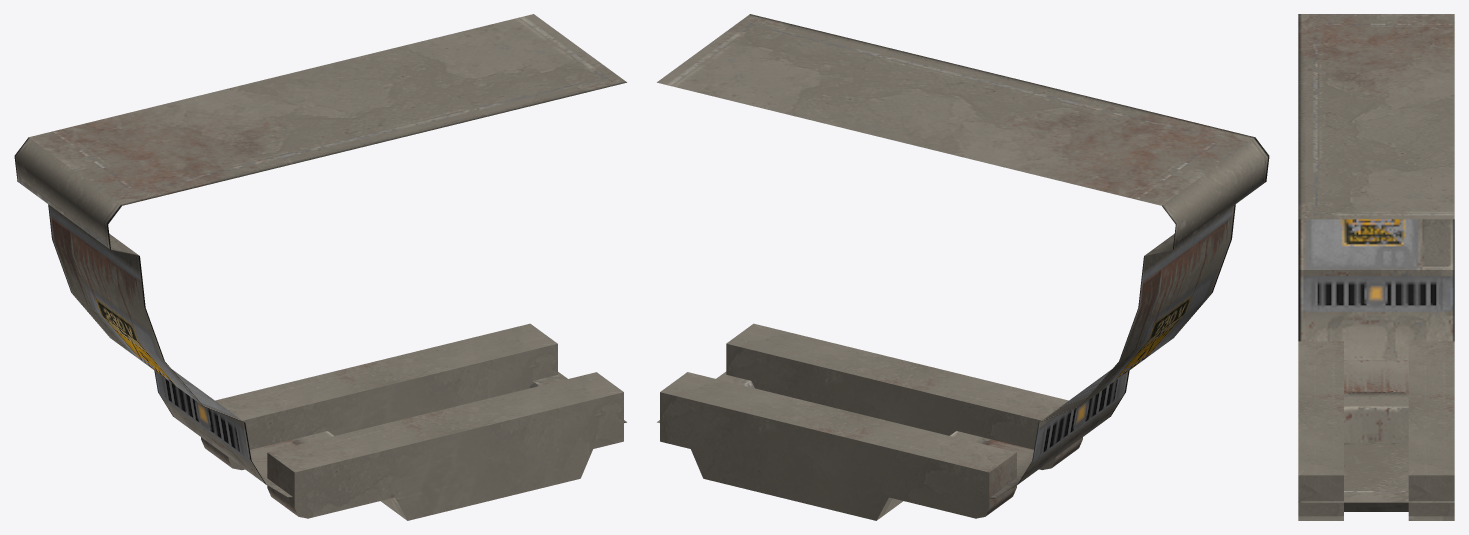
File: CP_Canopy_Industrial_0,5m_01.fbx
3 views of the same model, side by side, from view 1: azimuth 30°, elevation 25°; view 2: azimuth 150°, elevation 25°; view 3: azimuth 270°, elevation 25° (orthographic). The views are drawn at different scales.
Visible parts, largest first — view 1: CP_Canopy_Industrial_0,5m_01; view 2: CP_Canopy_Industrial_0,5m_01; view 3: CP_Canopy_Industrial_0,5m_01.
Boxes of the visible parts, box(x1,y1,x2,y2) form: CP_Canopy_Industrial_0,5m_01: box(14, 14, 626, 520); CP_Canopy_Industrial_0,5m_01: box(657, 14, 1269, 520); CP_Canopy_Industrial_0,5m_01: box(1298, 14, 1454, 520).
Size of the model in its own units: 160 by 113 by 50.
